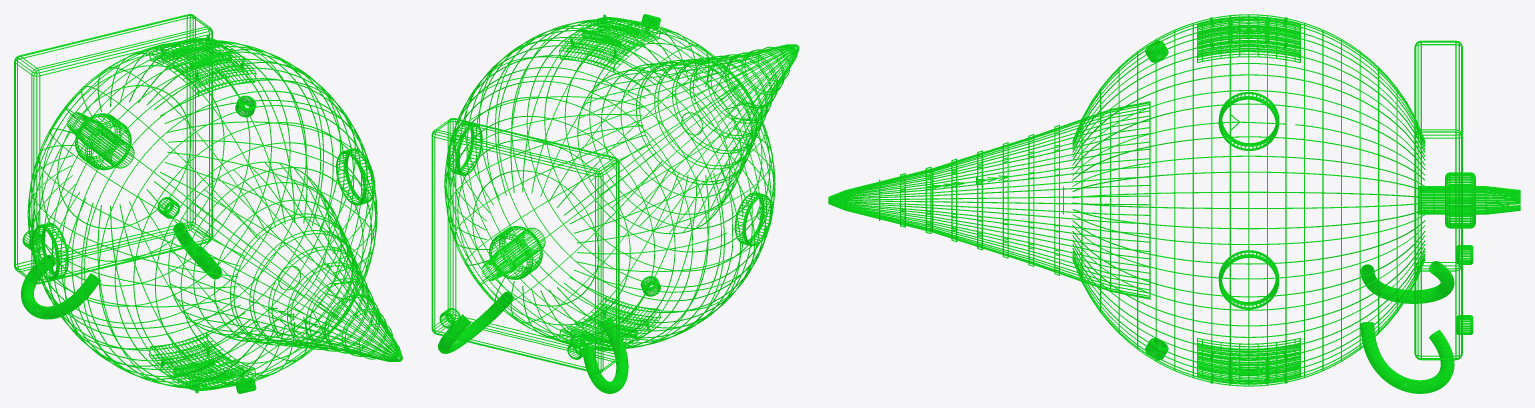
Rendered from deflector-wireframe.glb.
3 renders of one model, left to right at view 1: azimuth 30°, elevation 25°; view 2: azimuth 150°, elevation 25°; view 3: azimuth 270°, elevation 25°, orthographic. The views are drawn at different scales.
Visible parts, largest first — view 1: chassis technical wire, auxiliary-electronics technical wire, energising-nose-cone technical wire, overpressure-relief-valve technical wire; view 2: chassis technical wire, auxiliary-electronics technical wire, energising-nose-cone technical wire, overpressure-relief-valve technical wire; view 3: chassis technical wire, auxiliary-electronics technical wire, energising-nose-cone technical wire, overpressure-relief-valve technical wire.
Part boxes in pixels (x1=…): chassis technical wire: x1=27, y1=39, x2=377, y2=389; auxiliary-electronics technical wire: x1=14, y1=14, x2=375, y2=393; energising-nose-cone technical wire: x1=250, y1=231, x2=402, y2=361; overpressure-relief-valve technical wire: x1=67, y1=112, x2=134, y2=168; chassis technical wire: x1=444, y1=18, x2=775, y2=349; auxiliary-electronics technical wire: x1=431, y1=14, x2=772, y2=393; energising-nose-cone technical wire: x1=655, y1=44, x2=799, y2=167; overpressure-relief-valve technical wire: x1=481, y1=227, x2=545, y2=280; chassis technical wire: x1=1031, y1=14, x2=1475, y2=386; auxiliary-electronics technical wire: x1=1145, y1=16, x2=1473, y2=393; energising-nose-cone technical wire: x1=828, y1=134, x2=1033, y2=266; overpressure-relief-valve technical wire: x1=1418, y1=186, x2=1520, y2=214.
Bounding box in the file's own units: 0.9913 × 0.9709 × 1.75.
